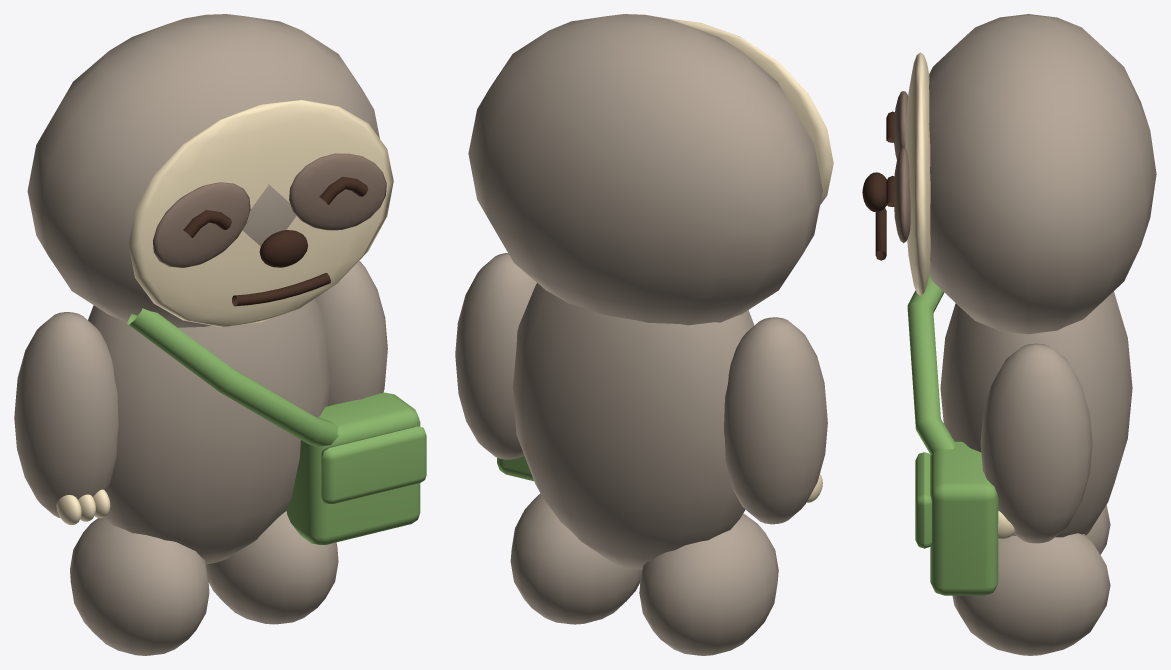
The model's file is you-you.glb.
The picture shows the model from 3 angles, left to right: view 1: azimuth 30°, elevation 25°; view 2: azimuth 150°, elevation 25°; view 3: azimuth 270°, elevation 25°; orthographic projection. The views are drawn at different scales.
Visible parts, largest first — view 1: Head.003, Body.003, FaceMask, Arm_L.003, Foot_L.003, Satchel, Foot_R.003, Arm_R.003, SatchelStrap, SatchelFlap, EyePatch, EyePatch.001 (+5 smaller); view 2: Head.003, Body.003, Arm_L.003, Foot_L.003, Arm_R.003, Foot_R.003, FaceMask, Satchel; view 3: Head.003, Arm_R.003, Body.003, Foot_R.003, Satchel, FaceMask, SatchelStrap, SatchelFlap, EyePatch.001, Nose.003, EyePatch, Foot_L.003 (+1 smaller).
Part boxes in pixels (x1=…): Head.003: x1=27, y1=14, x2=379, y2=327; Body.003: x1=88, y1=298, x2=330, y2=564; FaceMask: x1=128, y1=100, x2=393, y2=326; Arm_L.003: x1=14, y1=312, x2=118, y2=518; Foot_L.003: x1=70, y1=517, x2=209, y2=655; Satchel: x1=286, y1=392, x2=420, y2=544; Foot_R.003: x1=206, y1=511, x2=338, y2=624; Arm_R.003: x1=315, y1=261, x2=387, y2=405; SatchelStrap: x1=127, y1=308, x2=338, y2=446; SatchelFlap: x1=321, y1=426, x2=426, y2=504; EyePatch: x1=153, y1=182, x2=250, y2=267; EyePatch.001: x1=289, y1=153, x2=386, y2=230; Head.003: x1=468, y1=14, x2=822, y2=325; Body.003: x1=512, y1=283, x2=754, y2=569; Arm_L.003: x1=724, y1=317, x2=827, y2=524; Foot_L.003: x1=639, y1=513, x2=778, y2=655; Arm_R.003: x1=455, y1=253, x2=536, y2=459; Foot_R.003: x1=510, y1=493, x2=641, y2=624; FaceMask: x1=666, y1=18, x2=833, y2=204; Satchel: x1=497, y1=455, x2=533, y2=481; Head.003: x1=904, y1=14, x2=1156, y2=334; Arm_R.003: x1=980, y1=343, x2=1092, y2=543; Body.003: x1=940, y1=291, x2=1132, y2=537; Foot_R.003: x1=952, y1=533, x2=1110, y2=655; Satchel: x1=930, y1=441, x2=998, y2=595; FaceMask: x1=905, y1=52, x2=930, y2=295; SatchelStrap: x1=907, y1=274, x2=955, y2=454; SatchelFlap: x1=915, y1=452, x2=931, y2=548; EyePatch.001: x1=894, y1=147, x2=910, y2=243; Nose.003: x1=862, y1=172, x2=886, y2=212; EyePatch: x1=894, y1=91, x2=908, y2=159; Foot_L.003: x1=1086, y1=505, x2=1110, y2=554.
Bounding box in the file's own units: 1 × 1.62 × 0.735.
